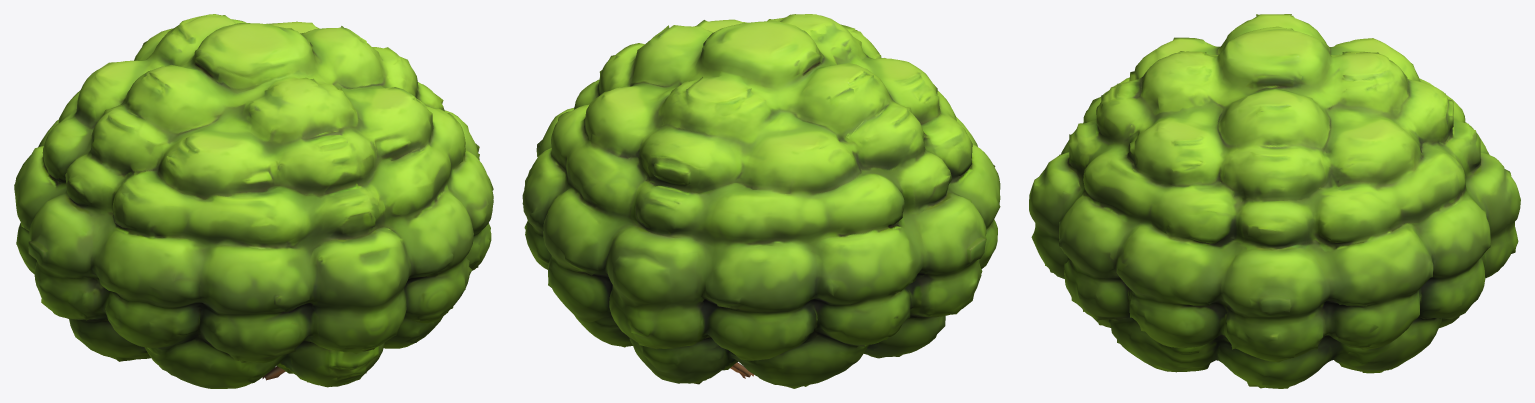
Rendered from bushSimple.fbx.
3 renders of one model, left to right at view 1: azimuth 30°, elevation 25°; view 2: azimuth 150°, elevation 25°; view 3: azimuth 270°, elevation 25°, orthographic.
Visible parts, largest first — view 1: model; view 2: model; view 3: model.
Part boxes in pixels (x1,y1,x2,y2): model: [14, 14, 493, 388]; model: [522, 14, 1000, 388]; model: [1029, 14, 1520, 388].
Size of the model in its own units: 190 by 138 by 190.
1 material, 1 textured.
